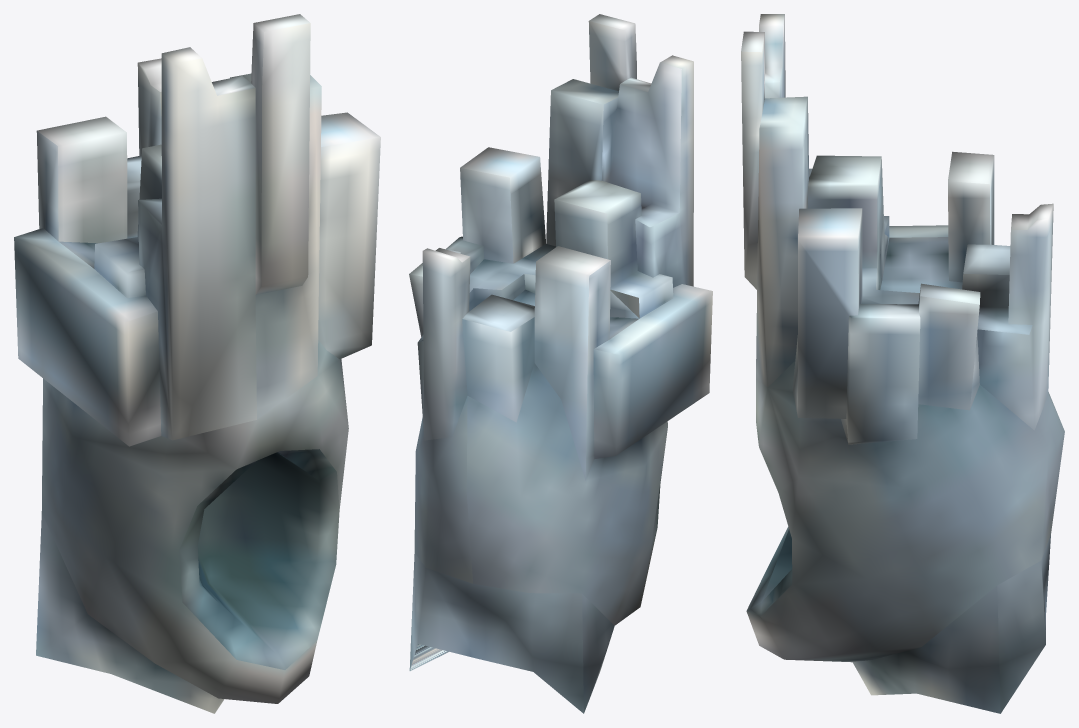
File: Minos_Head.obj
3 views of the same model, side by side, from view 1: azimuth 30°, elevation 25°; view 2: azimuth 150°, elevation 25°; view 3: azimuth 270°, elevation 25° (orthographic). The views are drawn at different scales.
Parts seen in each view (by area): view 1: Minos_Head; view 2: Minos_Head; view 3: Minos_Head.
Part boxes in pixels (x1,y1,x2,y2): Minos_Head: (14, 14, 380, 713); Minos_Head: (409, 14, 712, 713); Minos_Head: (741, 14, 1064, 713).
Bounding box in the file's own units: 0.1068 × 0.2816 × 0.1264.
1 material, 1 textured.
